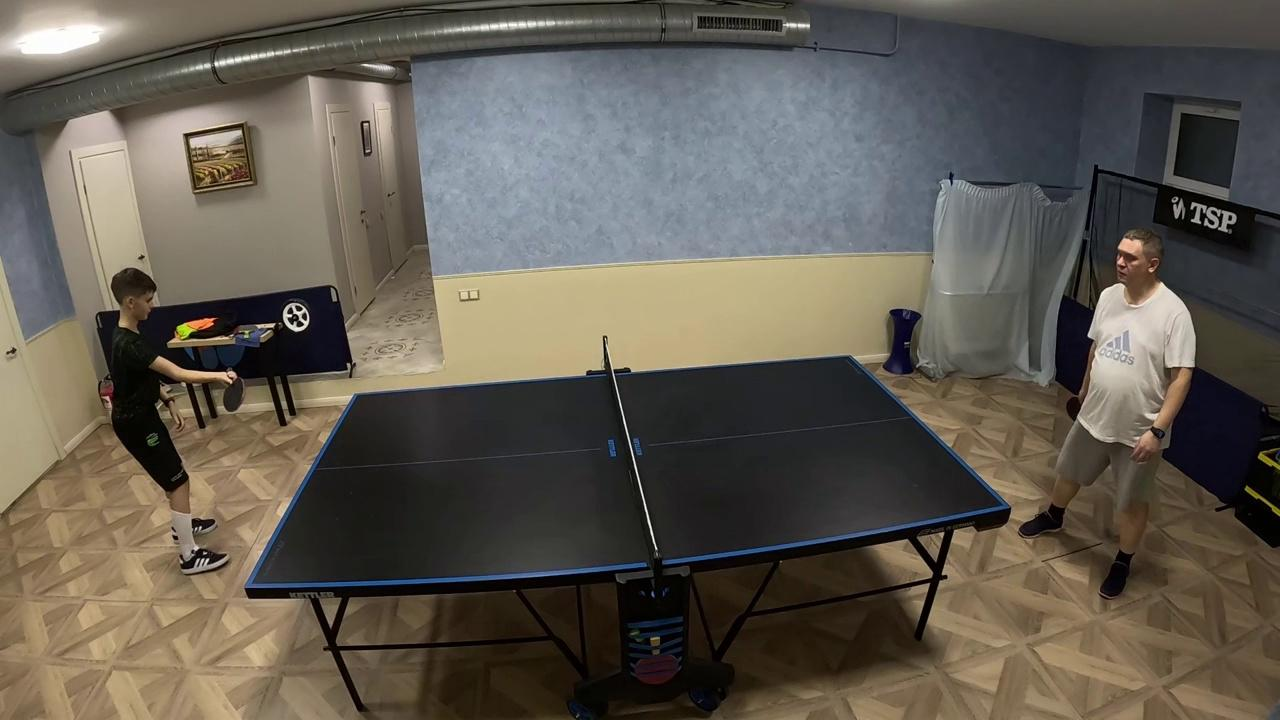Net: (602, 335, 663, 587)
Player1: (107, 268, 234, 574)
Player2: (1020, 230, 1195, 596)
Table: (256, 372, 647, 589), (617, 356, 1009, 570)
